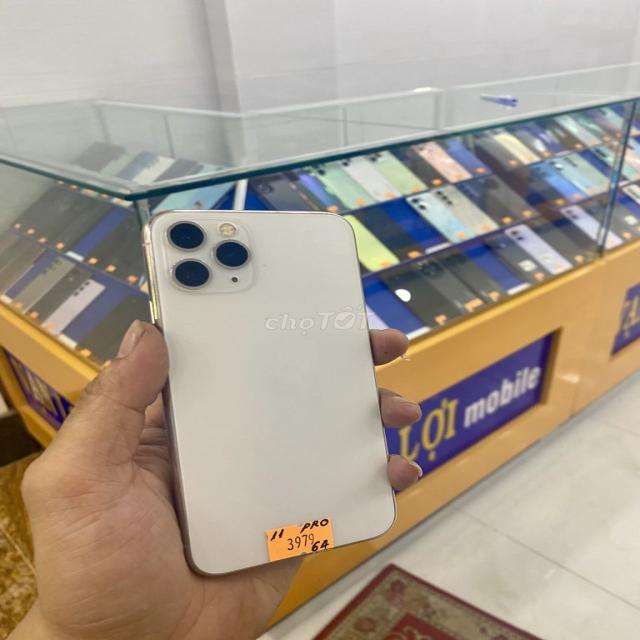gen_11: (142, 209, 395, 572)
